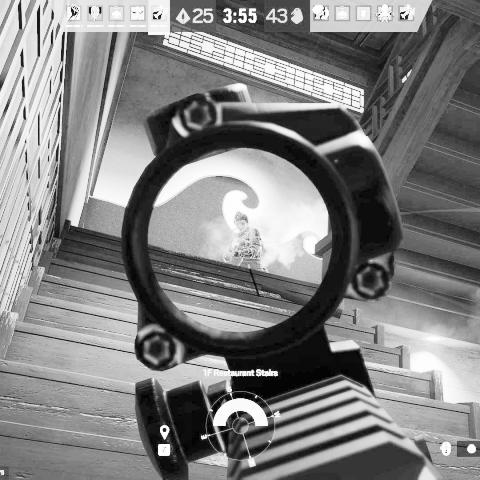Character: (223, 211, 269, 272)
Head: (233, 212, 249, 231)
